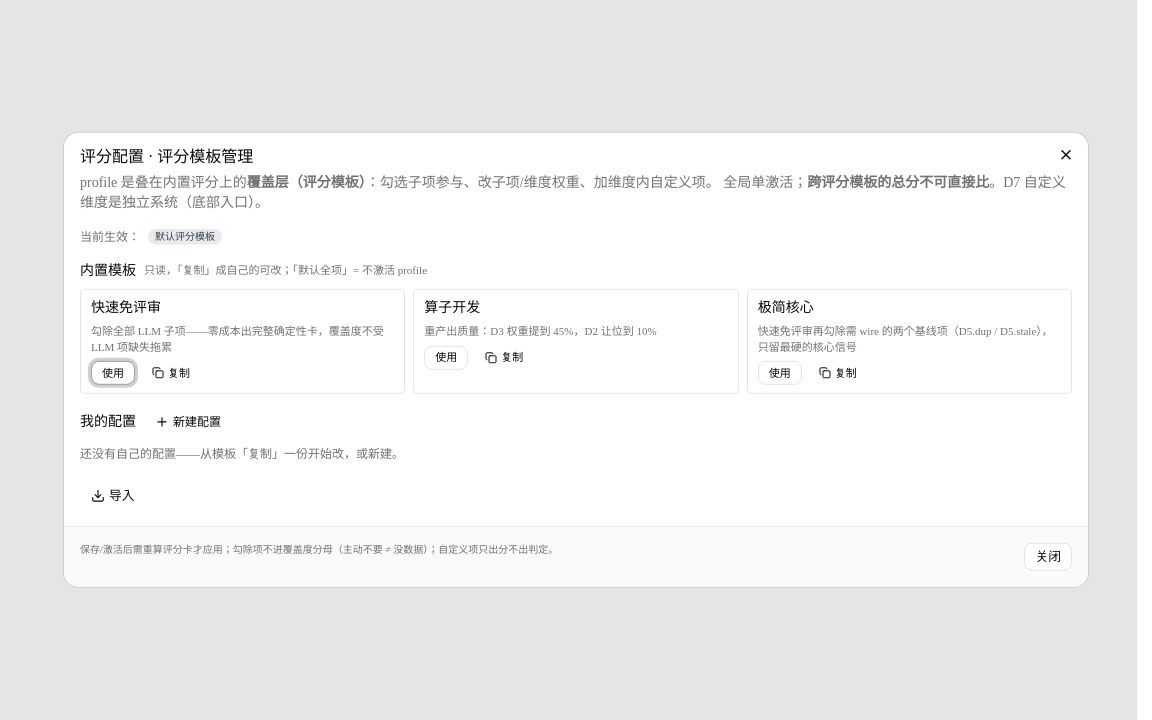
Scenario: ProfileManager 自定义项编辑器：校验原因可见 › 每档标准太短：按钮灰着且明说原因（档位红框 + 「还不能保存」清单）
The width and height of the screenshot is (1152, 720).
Step 1. Click the button "新建配置" → (188, 422), box [144, 410, 232, 434]
(page scrolled)
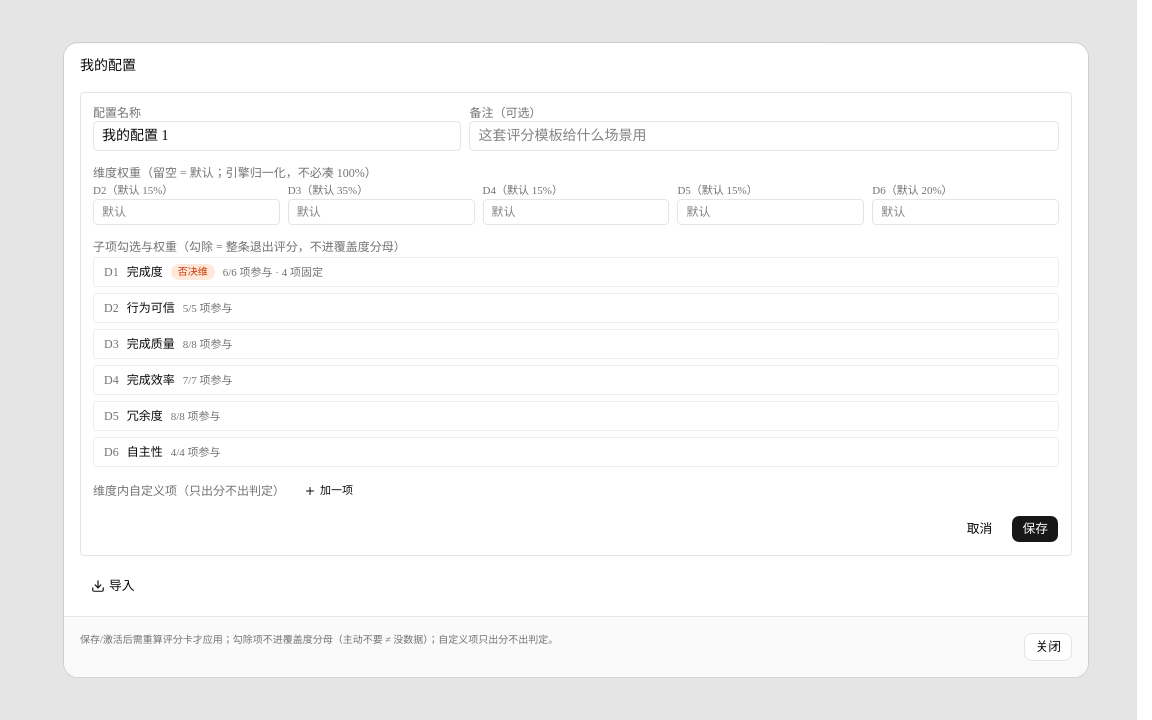
Now the button "加一项" is shown
Step 2. Click the button "加一项" → (328, 491), box [293, 479, 364, 503]
(page scrolled)
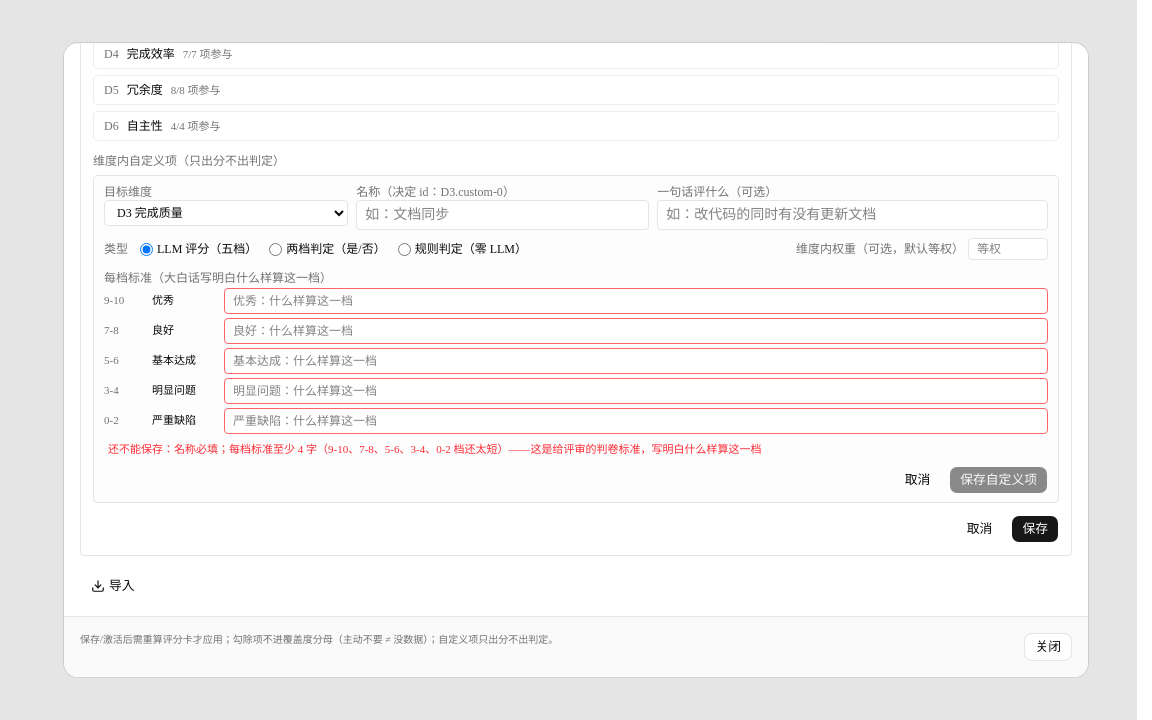
Now the text "还不能保存" is shown, box [108, 443, 174, 455]
Now the text "每档标准至少 4 字" is shown, box [174, 443, 762, 455]
Now the text "名称必填" is shown, box [174, 443, 762, 455]
